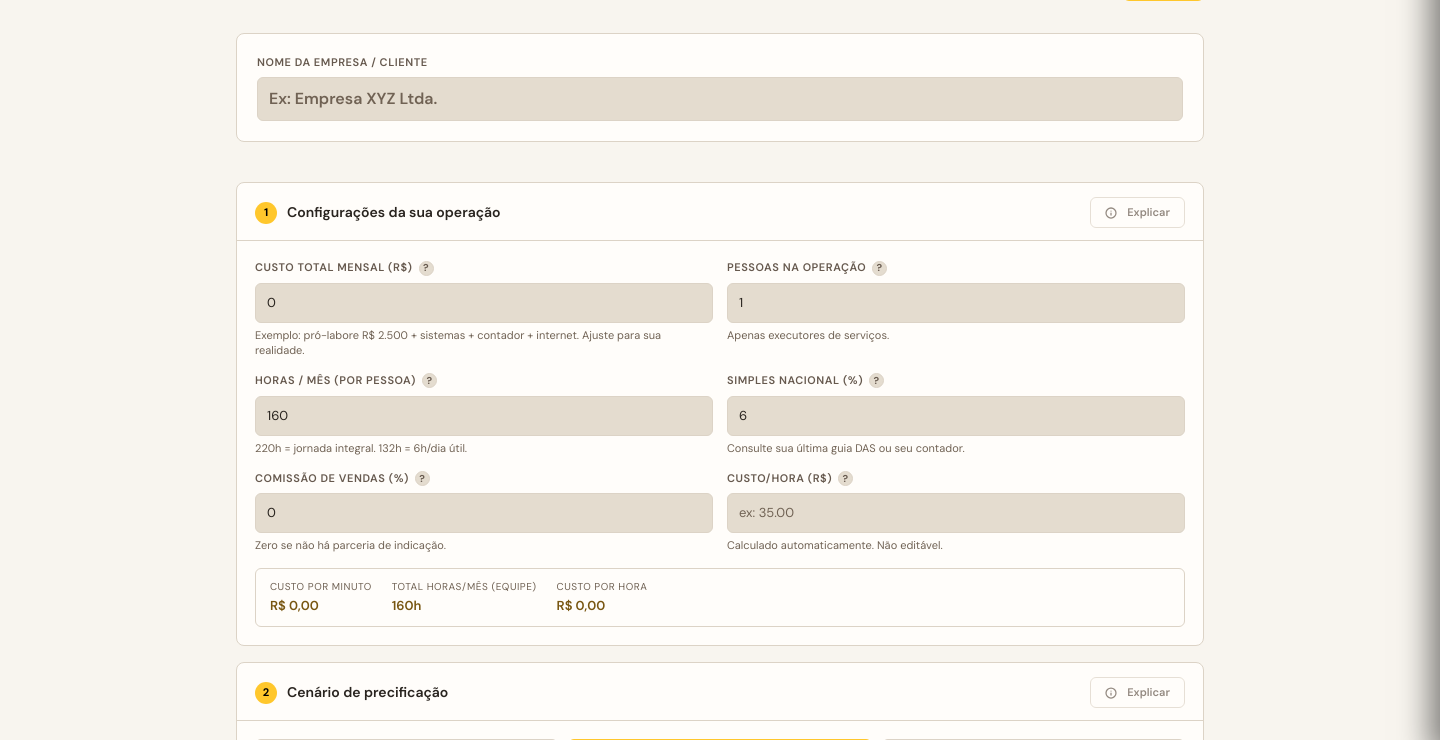
Scenario: calculadora pública: prévia só com cálculo válido (AUD-042) › com zero pessoas, avisa e não abre a prévia
Replace the text in the number field named "operation.people_count" below "Pessoas na operação" with "0" at (956, 303), box [727,282,1185,323]
(page scrolled)
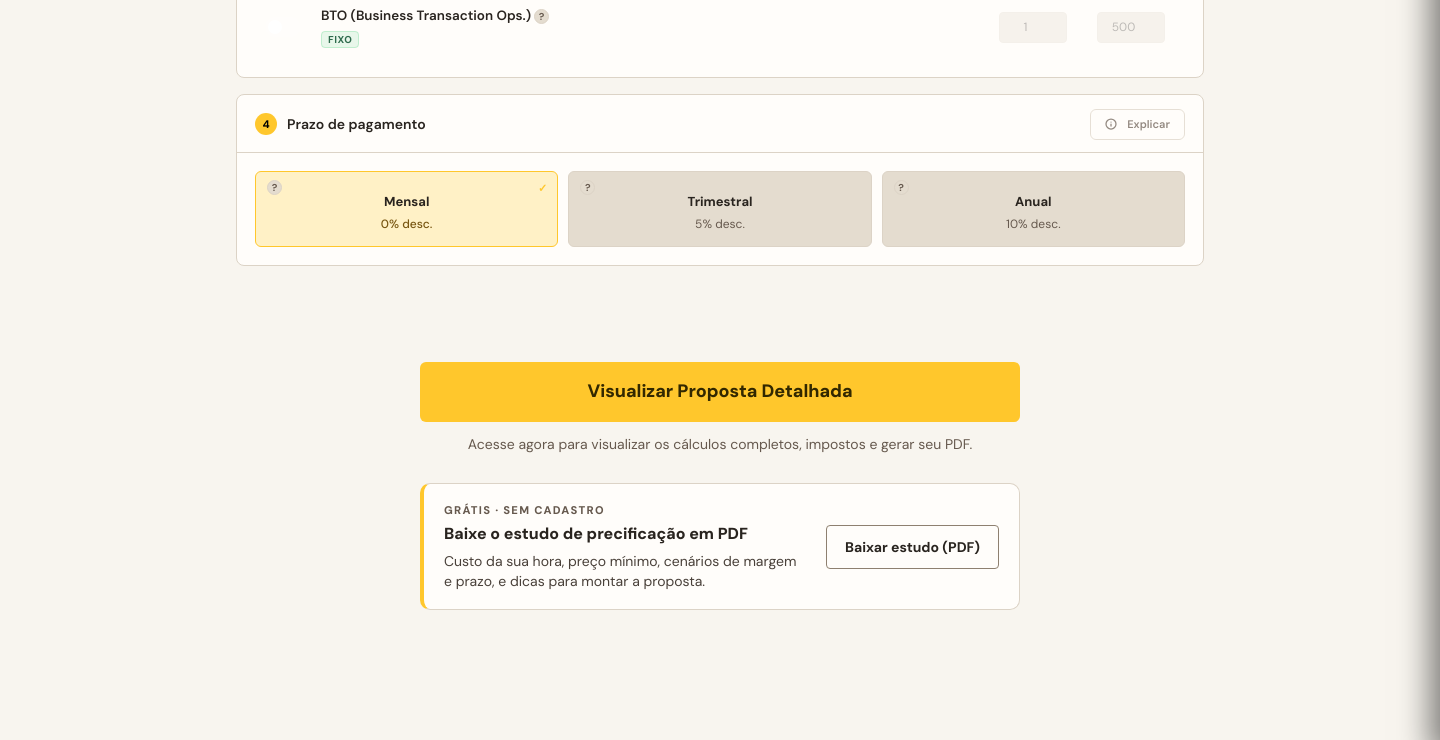
Click the button "Visualizar Proposta Detalhada" at (720, 392), box [420,362,1020,422]
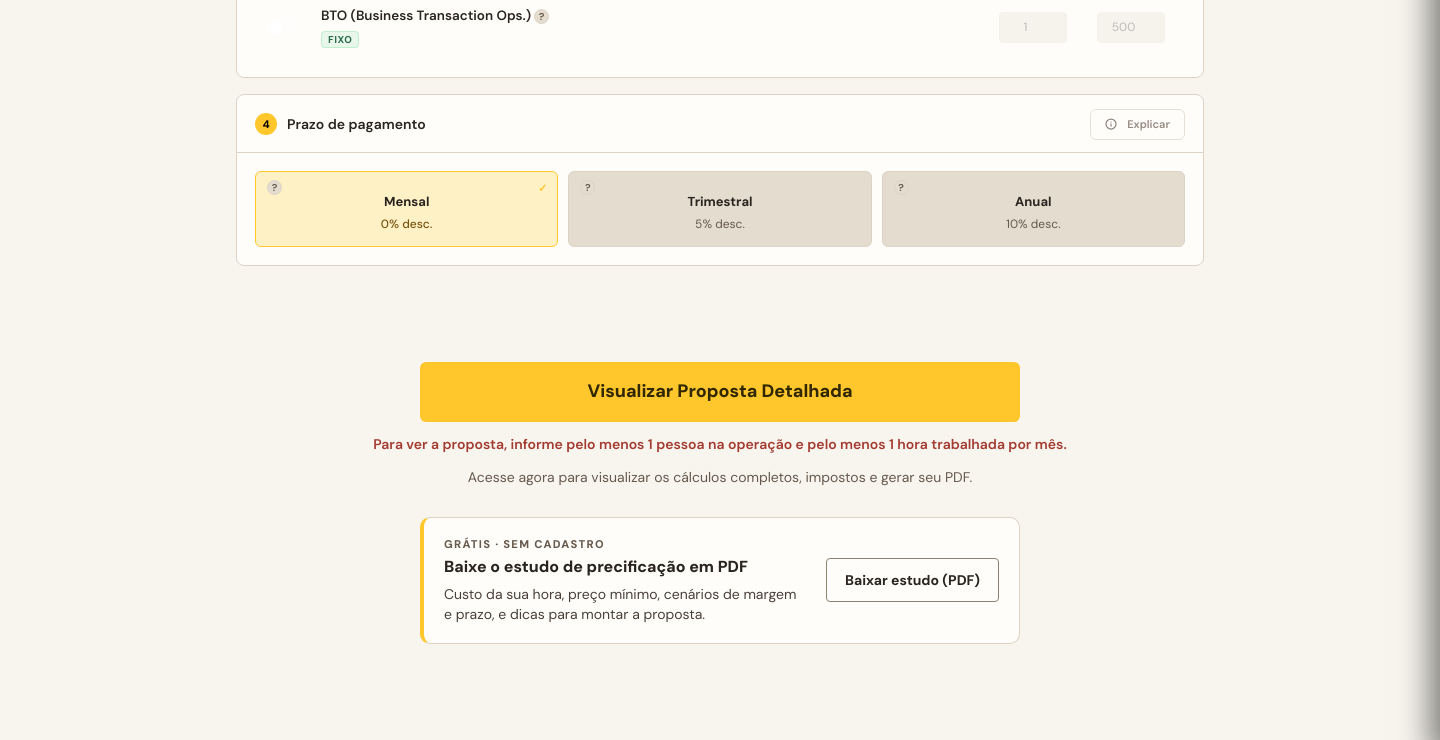
Expected: the message shows "pelo menos 1 pessoa", [373,435,1067,453]
